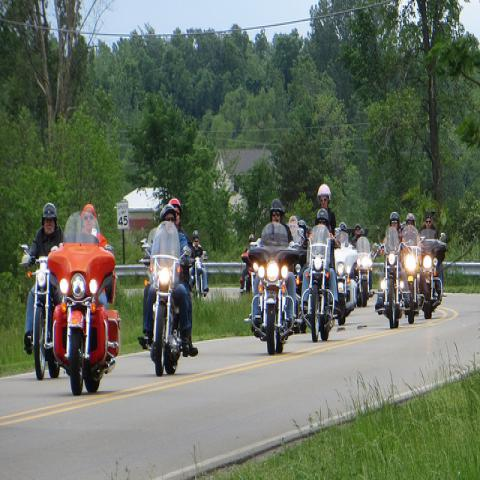motorcycle: (42, 209, 124, 396), (247, 221, 306, 357), (141, 218, 191, 377), (17, 240, 61, 378), (301, 226, 338, 342), (372, 227, 413, 331), (401, 224, 425, 326), (420, 230, 446, 319), (335, 232, 357, 325), (354, 236, 380, 308), (288, 263, 304, 318), (192, 250, 208, 301), (240, 253, 254, 295)
